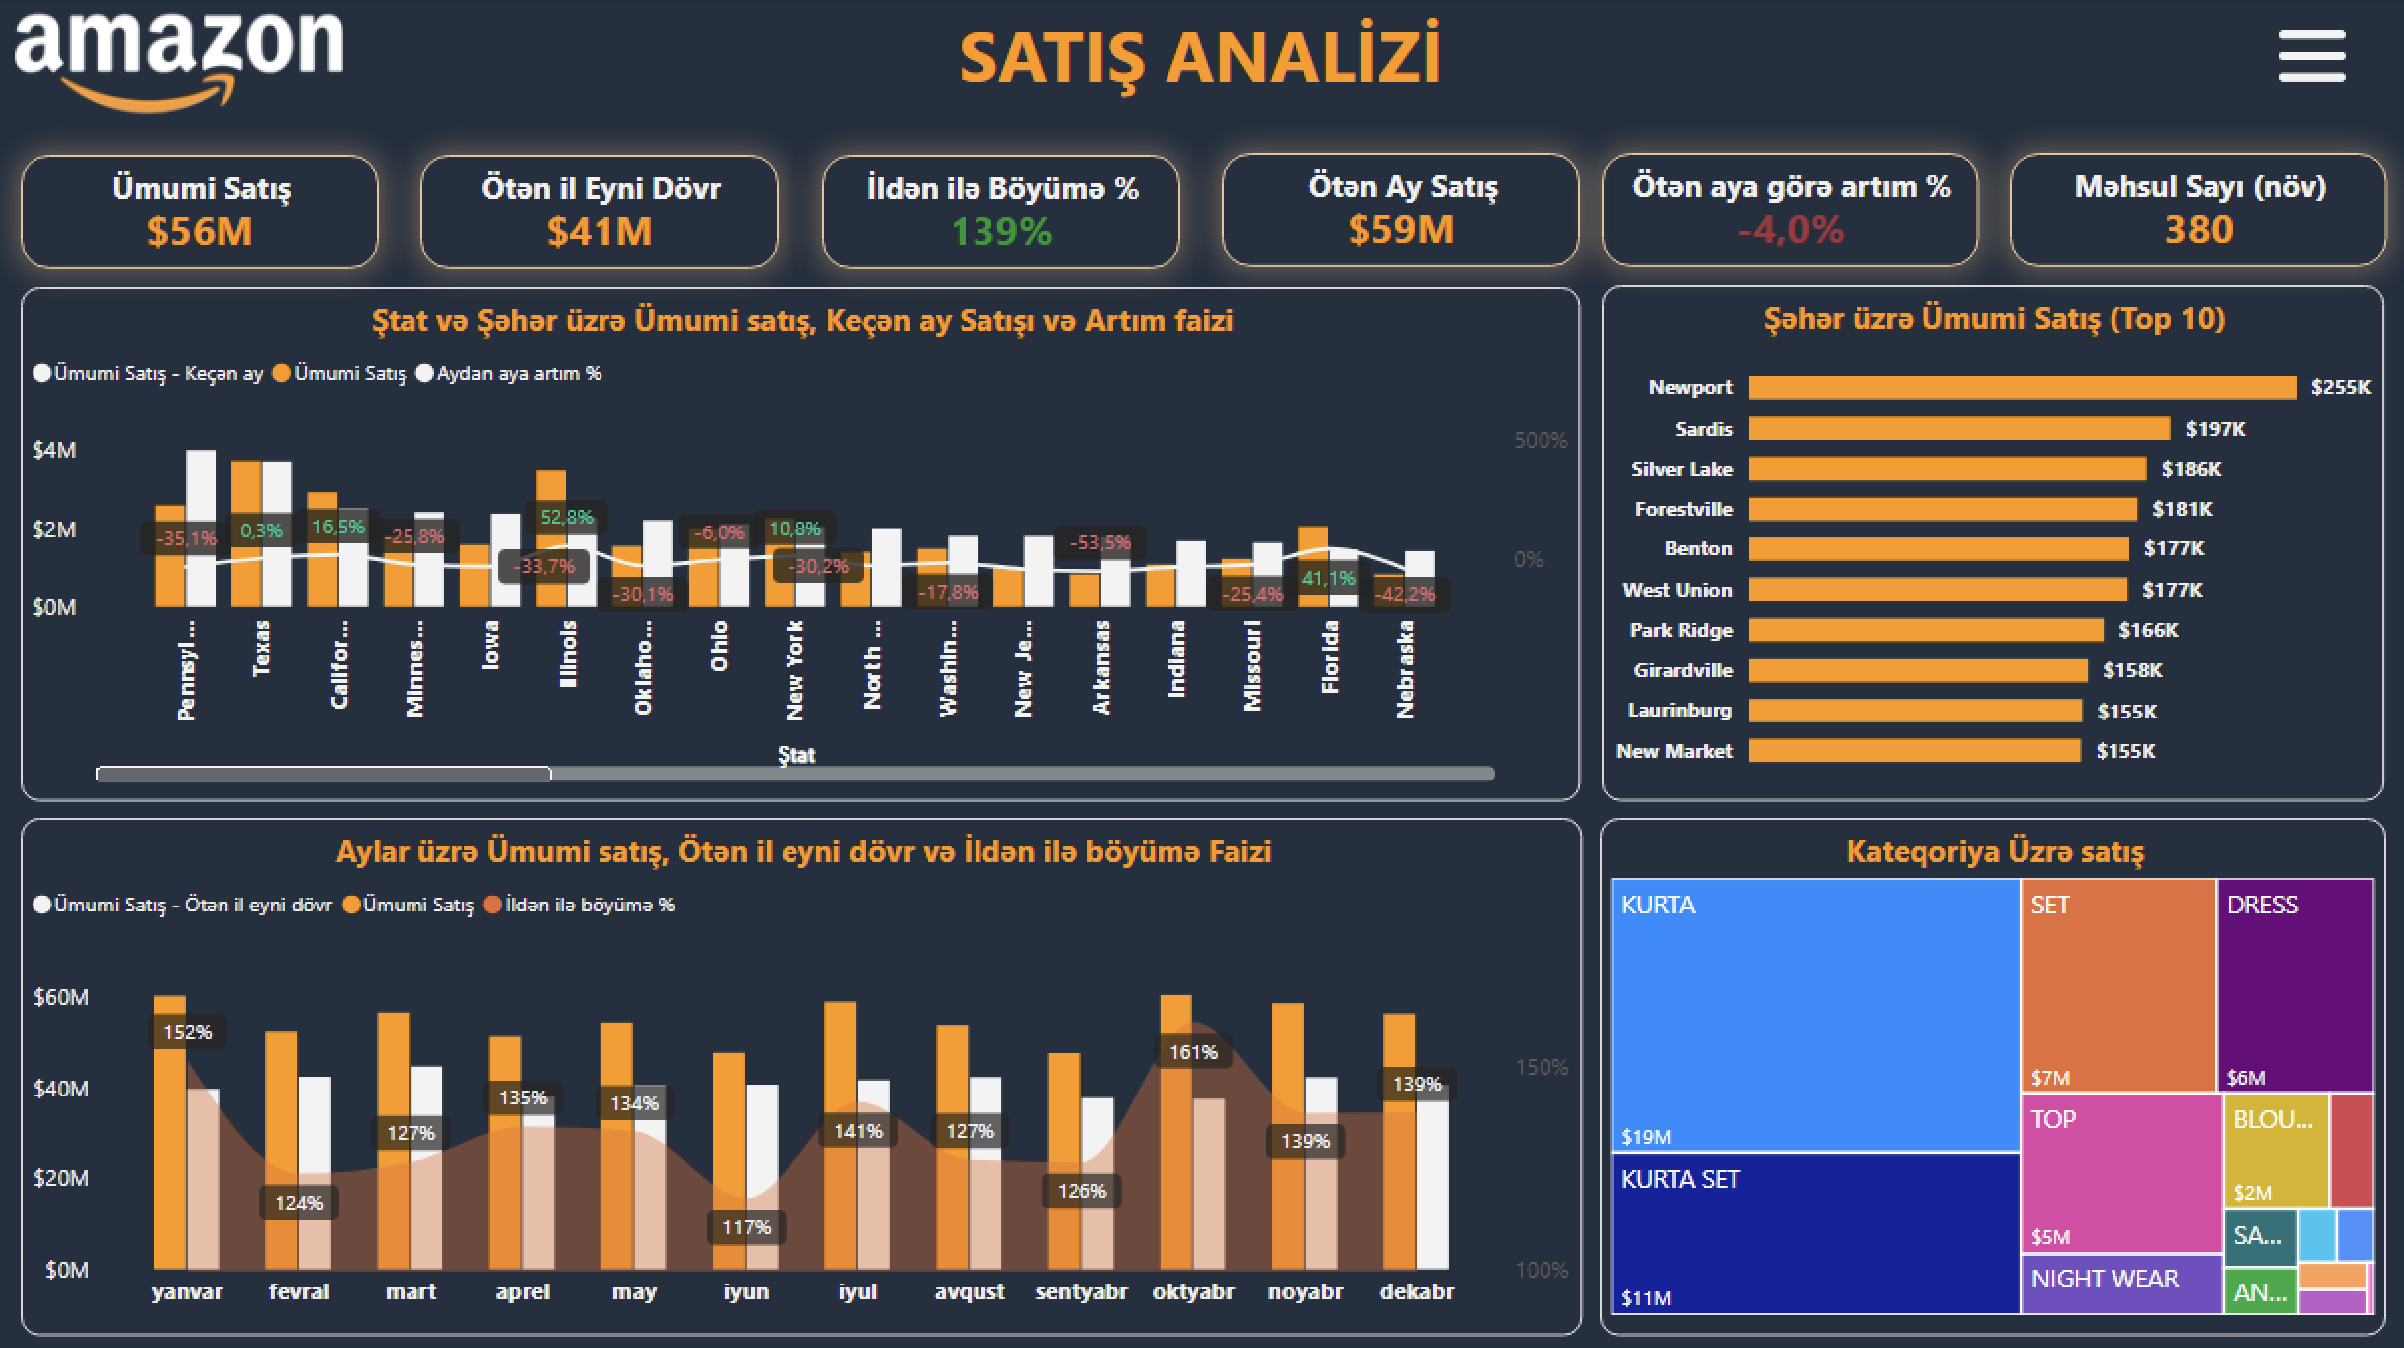

What the dashboard file says about the page in this screenshot:
{"tool":"powerbi","page":{"name":"Satış","canvas":[1280,720],"ordinal":1},"visuals":[{"type":"image","box":[1209.6,11.3,40,40],"z":0},{"type":"shape","box":[0,0,191.5,61.9],"z":1000},{"type":"textbox","box":[278.8,0,722.5,61.2],"z":2000},{"type":"card","title":"Ümumi Satış","fields":{"Values":["DAX table.Ümumi Satış"]},"box":[13.8,84.2,190,60],"z":3000},{"type":"card","title":"Məhsul Sayı (növ)","fields":{"Values":["DAX table.Məhsul sayı (növ)"]},"box":[1069.1,83.8,200.5,60.3],"z":4000},{"type":"card","title":"Ötən aya görə artım %","fields":{"Values":["DAX table.Aydan aya artım %"]},"box":[852.9,83.8,200,60.3],"z":5000},{"type":"card","title":"Ötən Ay Satış","fields":{"Values":["DAX table.Ümumi Satış - Keçən ay"]},"box":[651.1,83.8,190,60.3],"z":6000},{"type":"card","title":"İldən ilə Böyümə %","fields":{"Values":["DAX table.İldən ilə böyümə %"]},"box":[438.7,84.2,190,60],"z":7000},{"type":"card","title":"Ötən il Eyni Dövr ","fields":{"Values":["DAX table.Ümumi Satış - Ötən il eyni dövr"]},"box":[226.2,84.2,190,60],"z":8000},{"type":"lineClusteredColumnComboChart","title":"Aylar üzrə Ümumi satış, Ötən il eyni dövr və İldən ilə böyümə Faizi","fields":{"Category":["Calendar.Ay adı"],"Y":["DAX table.Ümumi Satış - Ötən il eyni dövr","DAX table.Ümumi Satış"],"Y2":["DAX table.İldən ilə böyümə %"]},"box":[13.8,436.2,828.8,275],"z":9000},{"type":"lineClusteredColumnComboChart","title":"Ştat və Şəhər üzrə Ümumi satış, Keçən ay Satışı və Artım faizi","fields":{"Category":["Amazon_city.Ştat"],"Y":["DAX table.Ümumi Satış - Keçən ay","DAX table.Ümumi Satış"],"Y2":["DAX table.Aydan aya artım %"]},"box":[13.4,154.1,828.3,273.4],"z":10000},{"type":"treemap","title":"Kateqoriya Üzrə satış","fields":{"Group":["Amazon_sku.Kateqoriya"],"Values":["DAX table.Ümumi Satış"]},"box":[852.4,435.6,416.8,274.8],"z":11000},{"type":"clusteredBarChart","title":"Şəhər üzrə Ümumi Satış (Top 10)","fields":{"Category":["Amazon_city.Şəhər"],"Y":["DAX table.Ümumi Satış"]},"box":[852.9,153.6,415.1,273.5],"z":13000}]}

Visuals, with their boxes in screenshot pixels (x1, y1, x2, y2), scaled from the page's 1280x720 canvas onto the 2404x1348 screenshot:
image: x1=2272 y1=21 x2=2347 y2=96
shape: x1=0 y1=0 x2=360 y2=116
textbox: x1=524 y1=0 x2=1881 y2=115
"Ümumi Satış" card: x1=26 y1=158 x2=383 y2=270
"Məhsul Sayı (növ)" card: x1=2008 y1=157 x2=2384 y2=270
"Ötən aya görə artım %" card: x1=1602 y1=157 x2=1977 y2=270
"Ötən Ay Satış" card: x1=1223 y1=157 x2=1580 y2=270
"İldən ilə Böyümə %" card: x1=824 y1=158 x2=1181 y2=270
"Ötən il Eyni Dövr " card: x1=425 y1=158 x2=782 y2=270
"Aylar üzrə Ümumi satış, Ötən il eyni dövr və İldən ilə böyümə Faizi" lineClusteredColumnComboChart: x1=26 y1=817 x2=1583 y2=1332
"Ştat və Şəhər üzrə Ümumi satış, Keçən ay Satışı və Artım faizi" lineClusteredColumnComboChart: x1=25 y1=289 x2=1581 y2=800
"Kateqoriya Üzrə satış" treemap: x1=1601 y1=816 x2=2384 y2=1330
"Şəhər üzrə Ümumi Satış (Top 10)" clusteredBarChart: x1=1602 y1=288 x2=2381 y2=800
